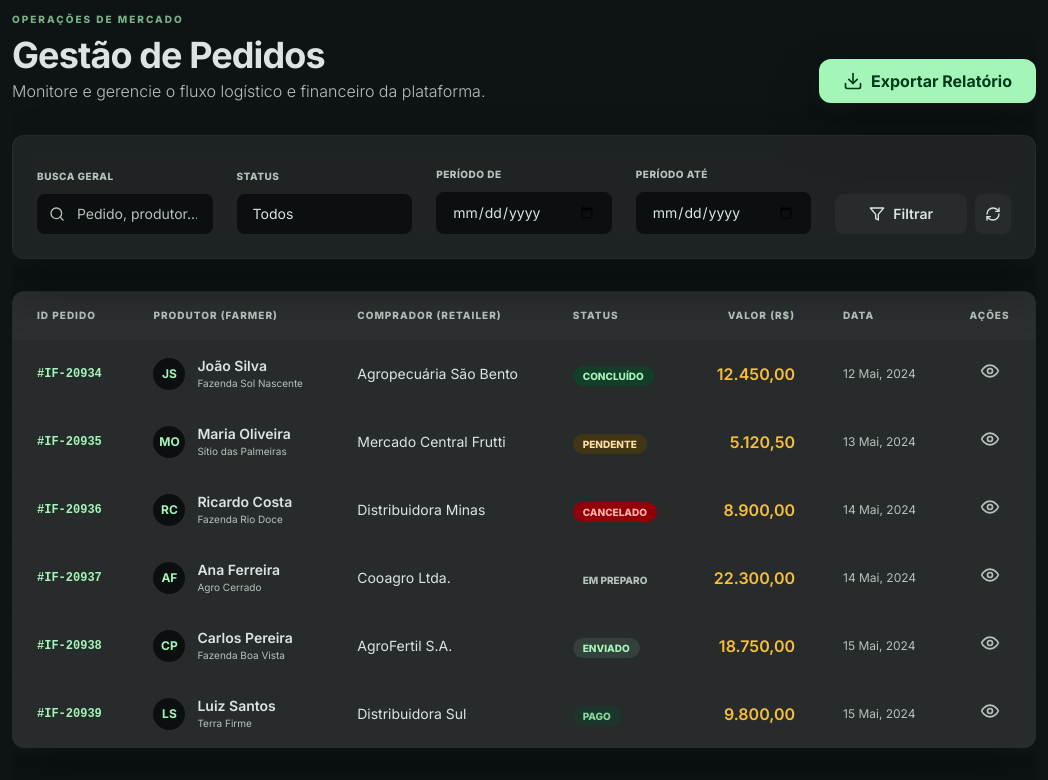
Scenario: OrdersPage › should filter orders to empty state with non-matching search
Type "xyznonexistent999" into the field with placeholder "Pedido, produtor..." at (125, 214), box [37,194,213,234]
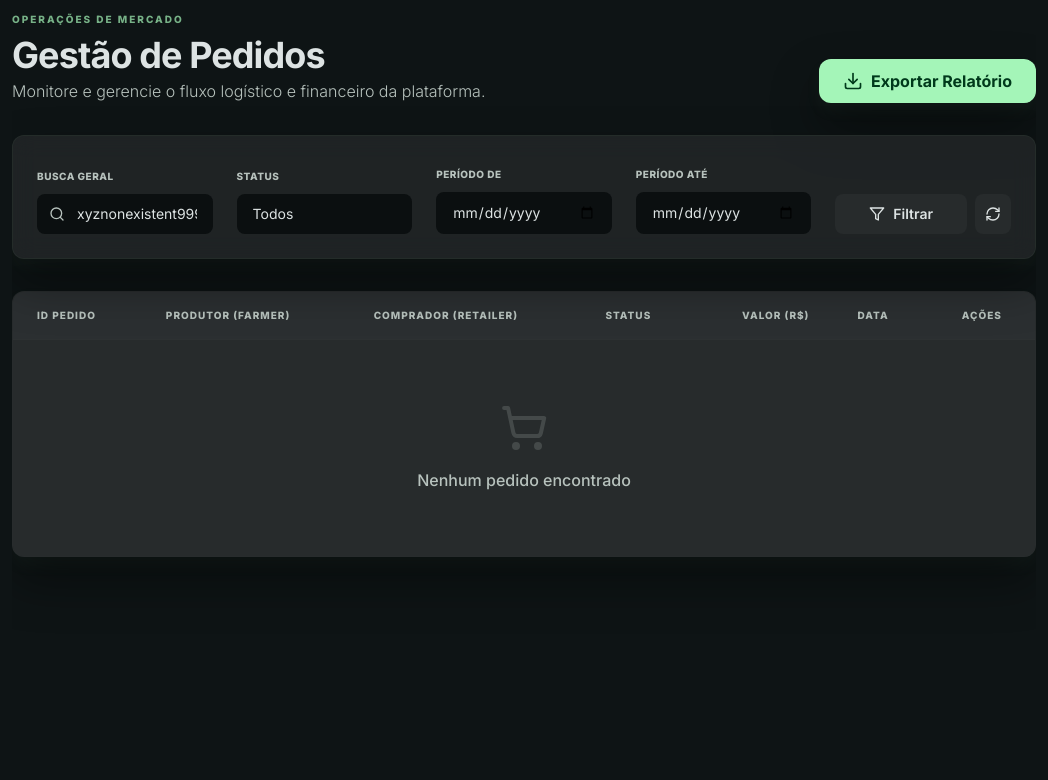
Check: the text "Nenhum pedido encontrado" is shown, box [417,470,631,490]
